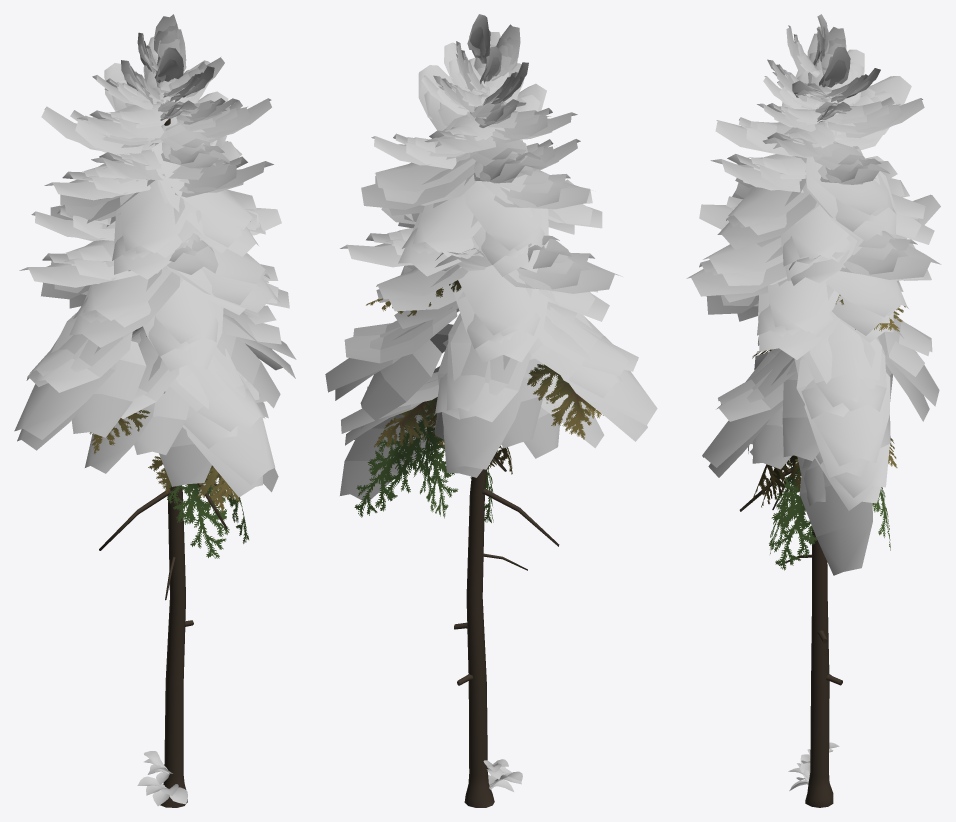
The model's file is Fir_Gr+Ân.L.A.X2.fbx.
The picture shows the model from 3 angles, left to right: view 1: azimuth 30°, elevation 25°; view 2: azimuth 150°, elevation 25°; view 3: azimuth 270°, elevation 25°; orthographic projection.
Visible parts, largest first — view 1: Fir_Grön_L_A_X2; view 2: Fir_Grön_L_A_X2; view 3: Fir_Grön_L_A_X2.
Part boxes in pixels (<box>): Fir_Grön_L_A_X2: <box>14,14,296,807</box>; Fir_Grön_L_A_X2: <box>325,14,657,807</box>; Fir_Grön_L_A_X2: <box>686,14,941,807</box>.
Bounding box in the file's own units: 629 × 1590 × 470.
